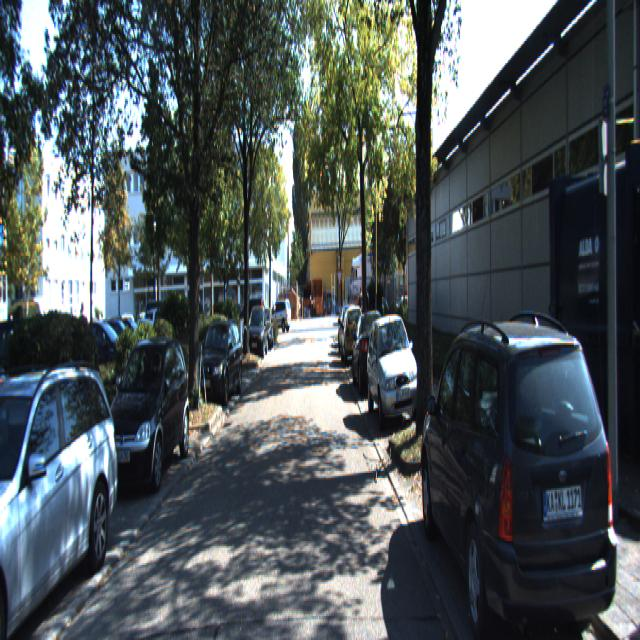Car: (417, 306, 627, 638), (0, 361, 124, 638), (100, 331, 190, 503), (616, 341, 640, 638), (366, 308, 423, 431), (195, 317, 244, 410), (351, 310, 392, 400), (340, 304, 366, 368), (246, 306, 268, 360), (264, 299, 292, 330)
DontCare: (86, 304, 165, 336)
